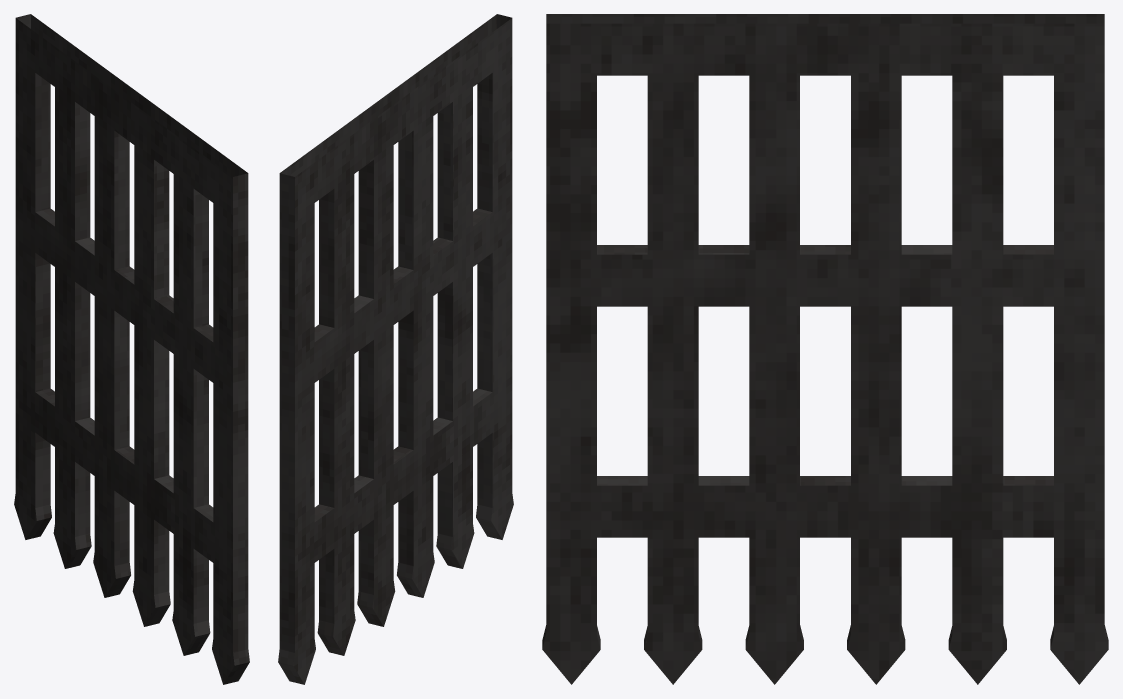
File: Metal_Gate.fbx
The picture shows the model from 3 angles, left to right: view 1: azimuth 30°, elevation 25°; view 2: azimuth 150°, elevation 25°; view 3: azimuth 270°, elevation 25°; orthographic projection. The views are drawn at different scales.
Visible parts, largest first — view 1: Gate; view 2: Gate; view 3: Gate.
Boxes of the visible parts, <box> form: Gate: <box>14,14,249,684</box>; Gate: <box>278,14,513,684</box>; Gate: <box>542,14,1108,684</box>.
Bounding box in the file's own units: 2.94 × 94.48 × 73.3.
